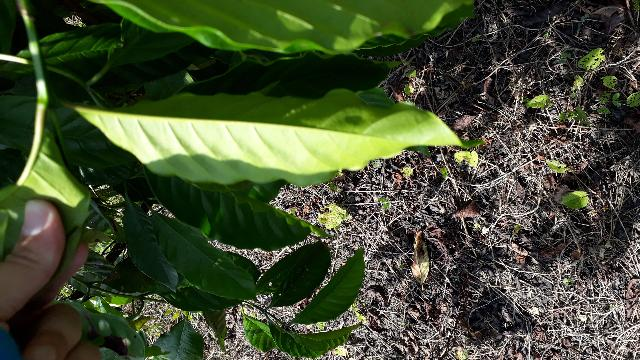healthy: (63, 90, 481, 187)
